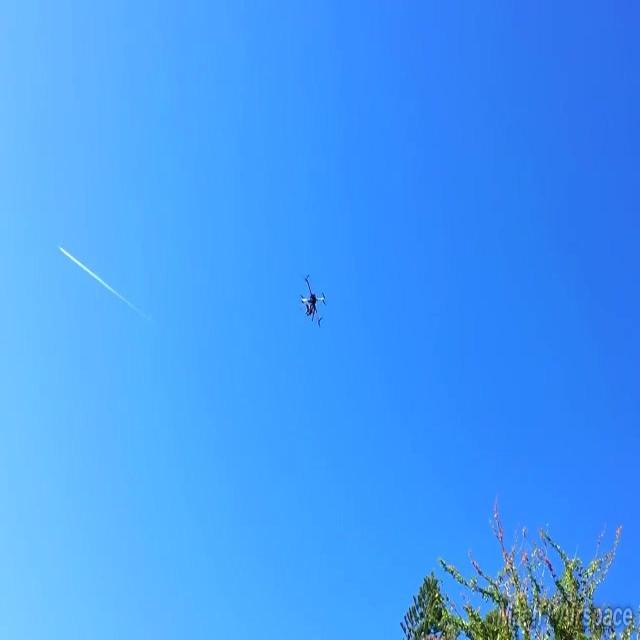drone: (298, 272, 330, 332)
